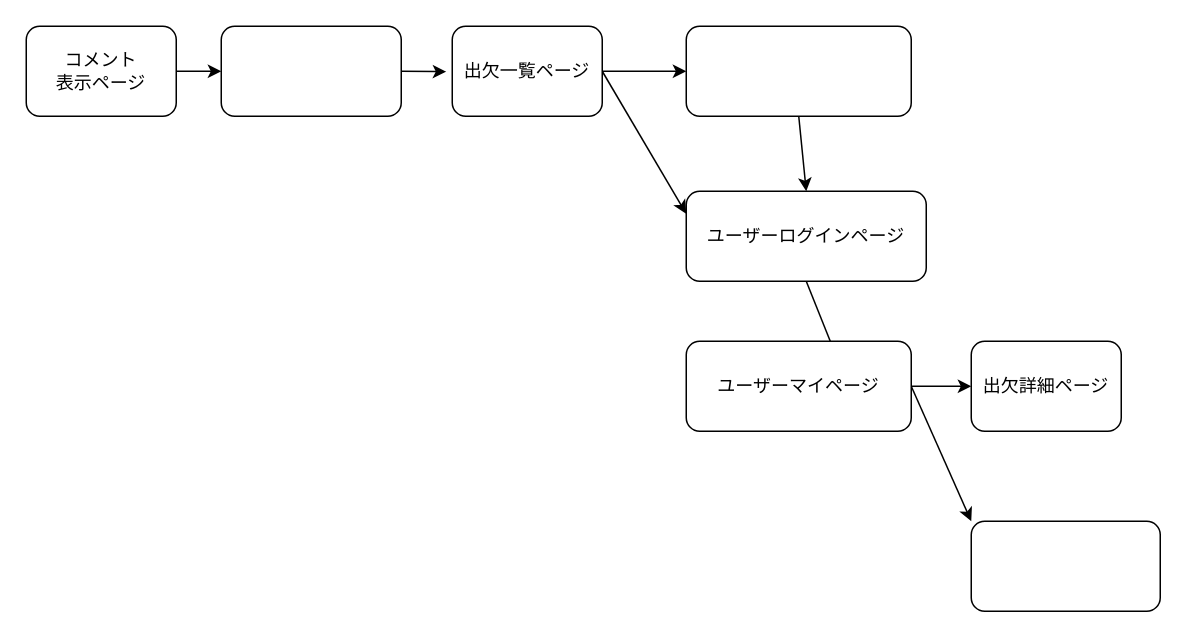
Some shapes in this 1187 by 638 pixel diagram are drawn without their labels. The centre of each missing label's shape, as x and y in pixels:
コメント投稿ページ: (1065,565)
ユーザー新規登録ページ: (798,70)
出欠確認 投稿ページ: (310,70)
